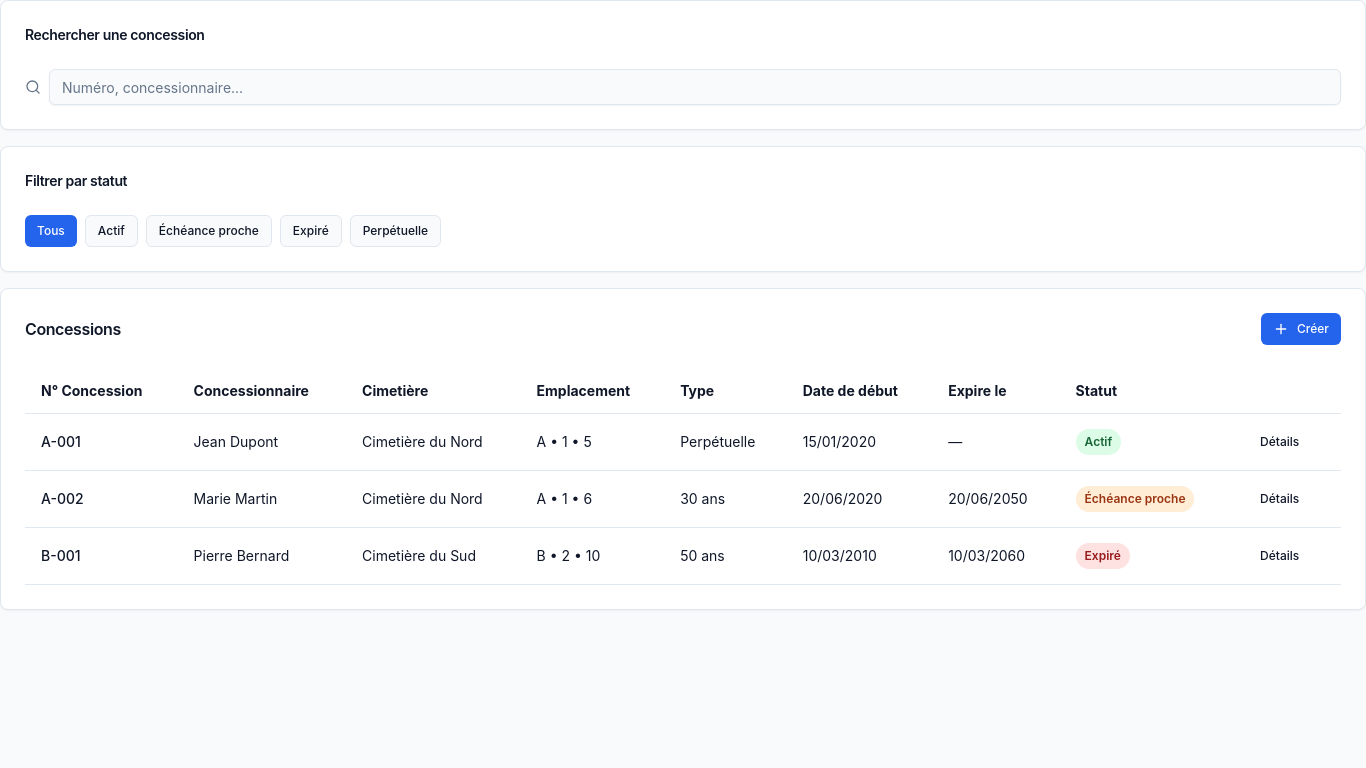
Test: ConcessionsPage › filtre les concessions par statut
The image size is (1366, 768).
Check: the text "A-001" is shown, box left=25, top=414, right=178, bottom=470
Click the button "Actif": coordinates (111, 231) left=85, top=215, right=138, bottom=247
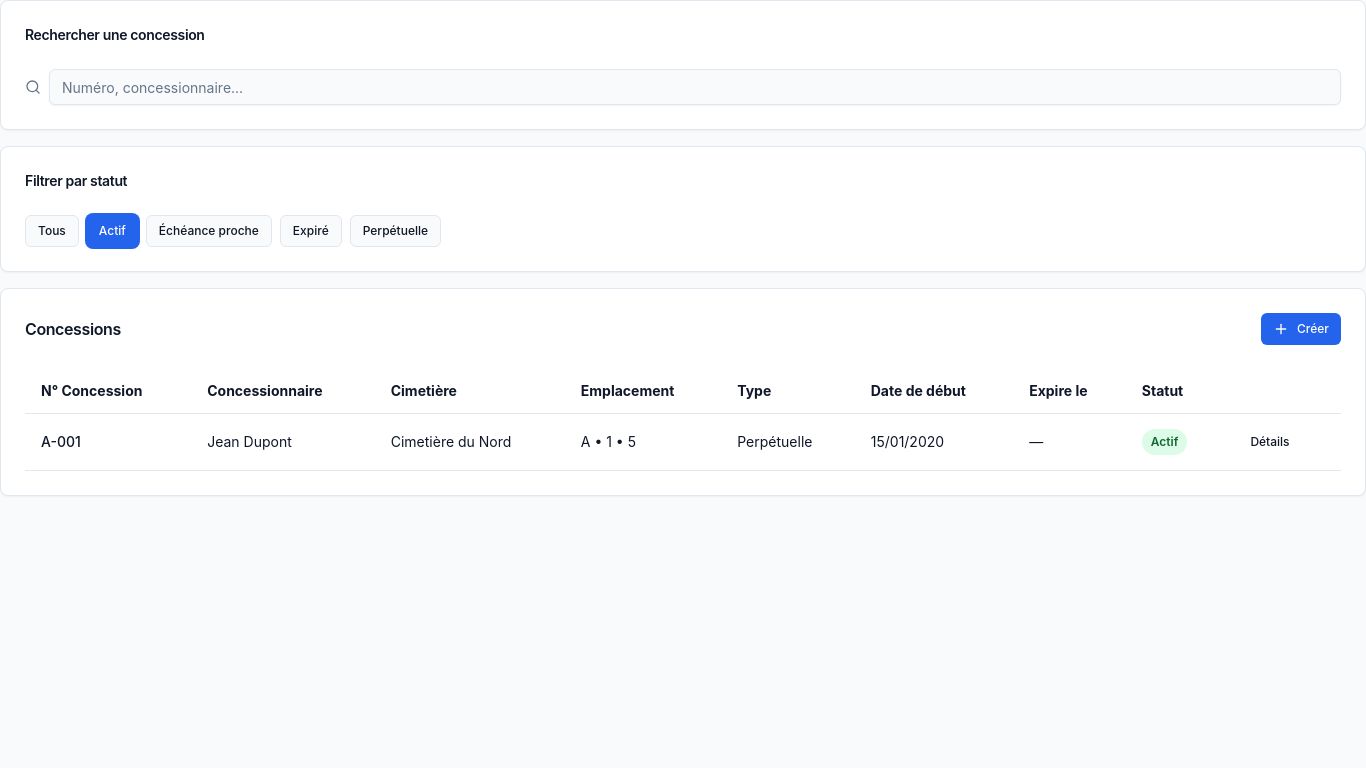
Check: the text "A-001" is shown, box left=25, top=414, right=191, bottom=470
Check: the text "A-002" is gone
Check: the text "B-001" is gone
